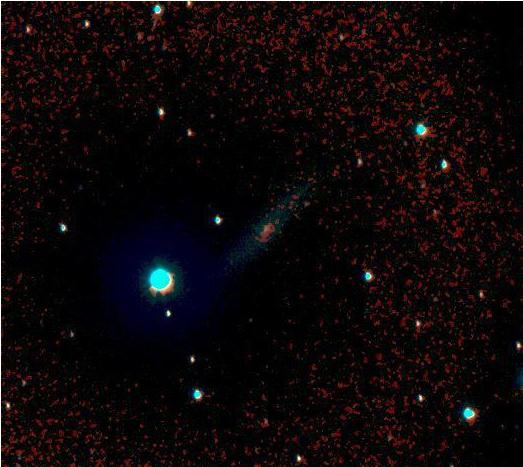star: (424, 30, 454, 60)
